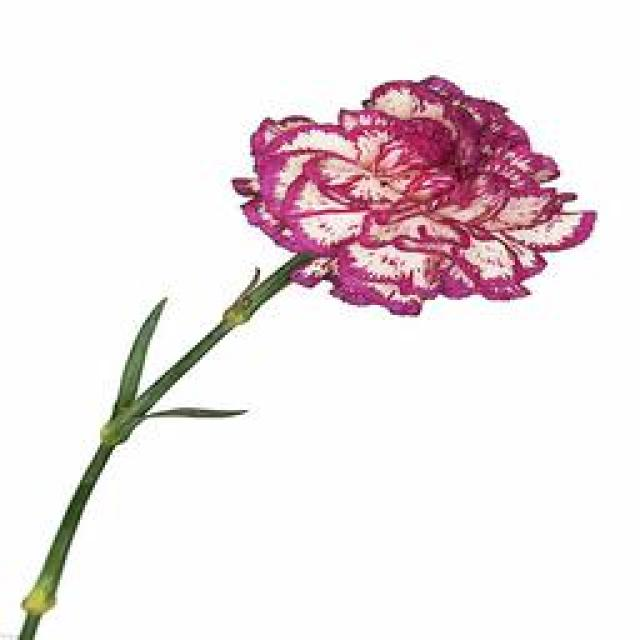carnation: (234, 46, 590, 333)
